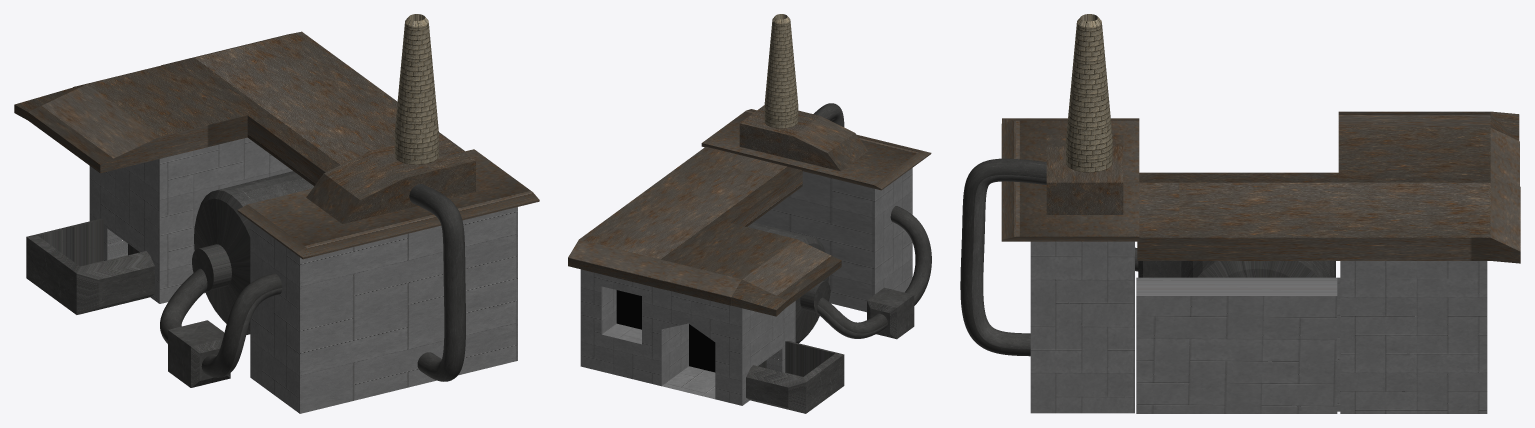
The model's file is small_generator_v2.glb.
3 renders of one model, left to right at view 1: azimuth 30°, elevation 25°; view 2: azimuth 150°, elevation 25°; view 3: azimuth 270°, elevation 25°, orthographic. The views are drawn at different scales.
Parts seen in each view (by area): view 1: Cube.001, Cube.003, Cube, Cube.004, Cube.006, Cube.005, Cylinder, Cylinder.001, NurbsPath.003, NurbsPath.002, Cube.002, NurbsPath; view 2: Cube.003, Cube, Cube.001, Cube.006, Cube.005, Cube.004, Cylinder.001, Cylinder, Cube.002, NurbsPath.002, NurbsPath, NurbsPath.003; view 3: Cube, Cube.003, Cube.001, Cube.004, NurbsPath.003, Cylinder.001, Cube.005, Cylinder, Cube.002.
Part boxes in pixels (<box>): Cube.001: <box>250,207,517,413</box>; Cube.003: <box>14,31,464,186</box>; Cube: <box>89,137,292,303</box>; Cube.004: <box>237,149,539,259</box>; Cube.006: <box>26,219,154,314</box>; Cube.005: <box>306,134,475,224</box>; Cylinder: <box>192,171,313,334</box>; Cylinder.001: <box>394,14,438,164</box>; NurbsPath.003: <box>409,184,465,381</box>; NurbsPath.002: <box>201,273,282,377</box>; Cube.002: <box>168,320,230,387</box>; NurbsPath: <box>160,268,207,343</box>; Cube.003: <box>568,147,841,316</box>; Cube: <box>580,269,795,405</box>; Cube.001: <box>754,168,912,312</box>; Cube.006: <box>746,341,844,413</box>; Cube.005: <box>739,105,868,171</box>; Cube.004: <box>701,109,931,190</box>; Cylinder.001: <box>764,14,798,128</box>; Cylinder: <box>747,222,830,343</box>; Cube.002: <box>867,287,914,339</box>; NurbsPath.002: <box>890,206,931,305</box>; NurbsPath: <box>817,297,887,338</box>; NurbsPath.003: <box>813,103,844,126</box>; Cube: <box>1136,261,1487,413</box>; Cube.003: <box>1137,111,1520,263</box>; Cube.001: <box>1030,241,1134,413</box>; Cube.004: <box>1001,118,1139,241</box>; NurbsPath.003: <box>960,158,1046,356</box>; Cylinder.001: <box>1066,14,1112,172</box>; Cube.005: <box>1046,135,1123,214</box>; Cylinder: <box>1179,261,1335,277</box>; Cube.002: <box>1138,261,1179,277</box>.
Size of the model in its own units: 1.99 by 2.25 by 3.15.
Materials: 13 (12 with a texture image).
